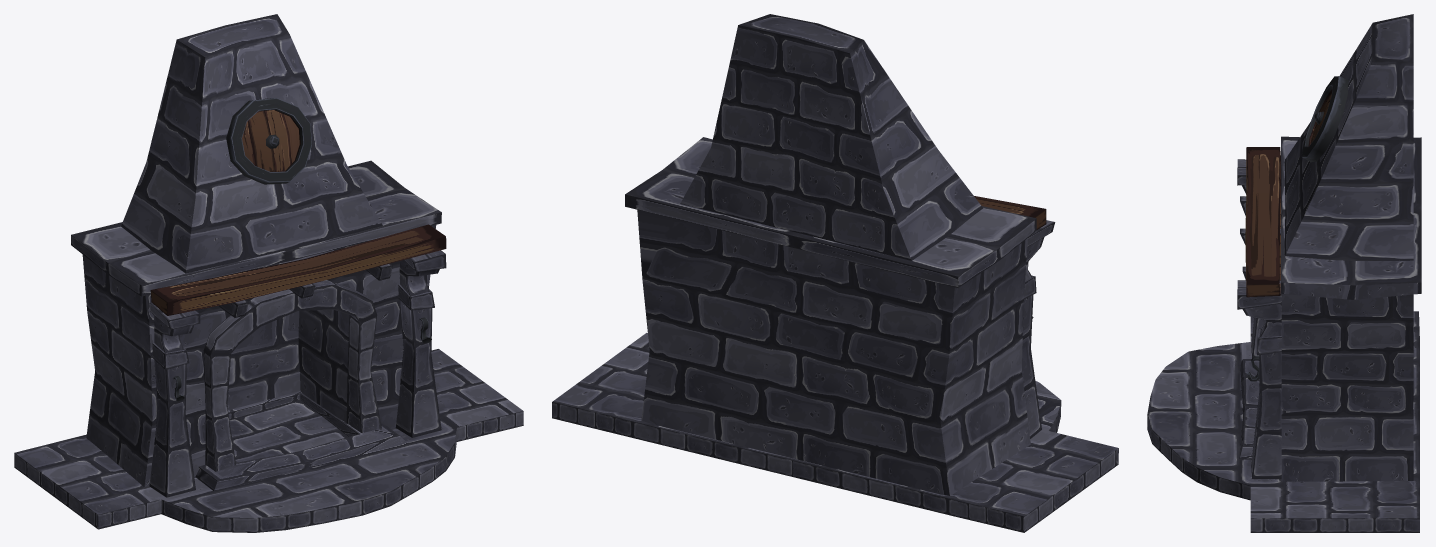
File: SM_PROP_fireplace_dungeon.fbx
3 renders of one model, left to right at view 1: azimuth 30°, elevation 25°; view 2: azimuth 150°, elevation 25°; view 3: azimuth 270°, elevation 25°, orthographic. The views are drawn at different scales.
Parts seen in each view (by area): view 1: SM_PROP_fireplace_dungeon; view 2: SM_PROP_fireplace_dungeon; view 3: SM_PROP_fireplace_dungeon.
Part boxes in pixels (x1,y1,x2,y2): SM_PROP_fireplace_dungeon: (14,14,523,532); SM_PROP_fireplace_dungeon: (552,14,1118,532); SM_PROP_fireplace_dungeon: (1147,14,1421,532).
Size of what is drawn, in the model's own units: 444 by 392 by 249.
